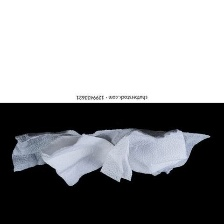tissue: (6, 118, 215, 192)
